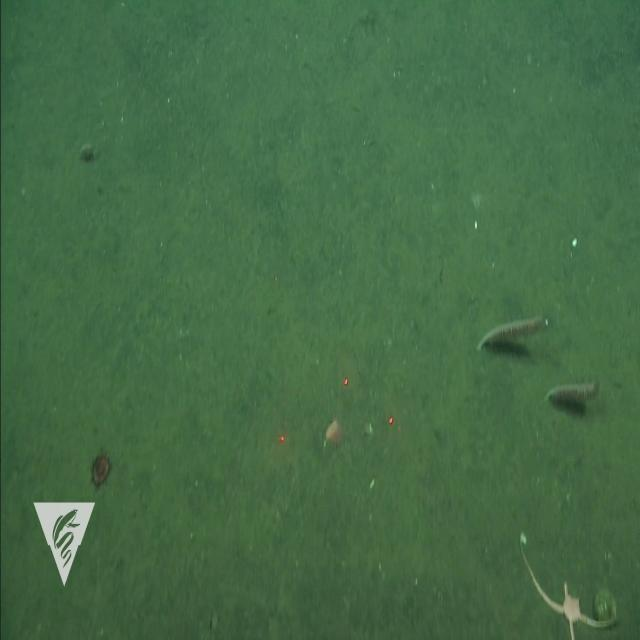Brittle Star: (559, 590, 584, 628)
